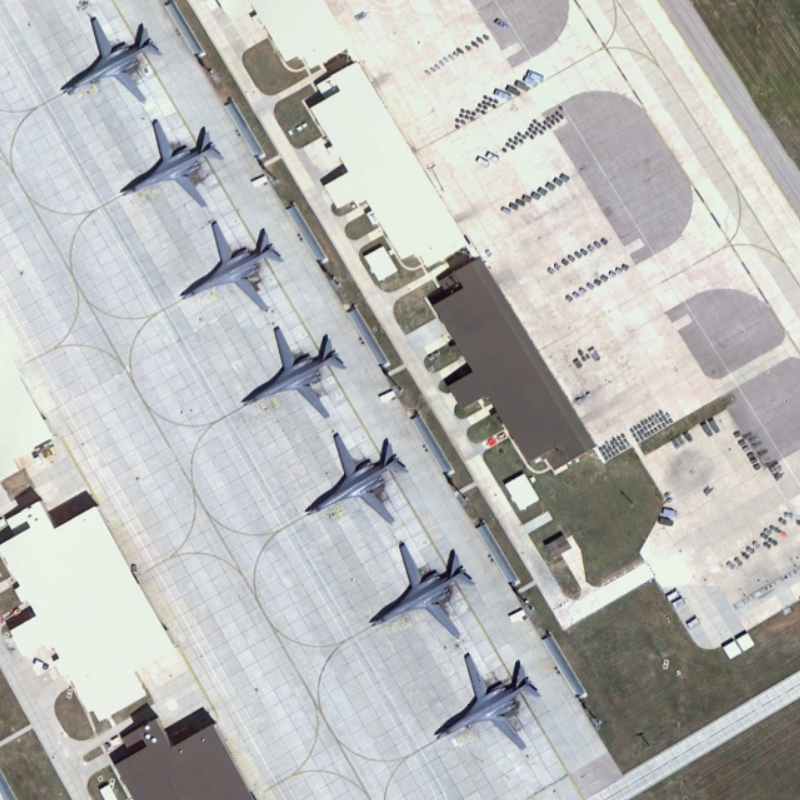A10: (430, 647, 549, 761), (233, 318, 351, 424), (365, 535, 481, 641), (299, 423, 409, 529), (181, 213, 288, 316), (117, 114, 228, 210), (55, 8, 164, 103)
